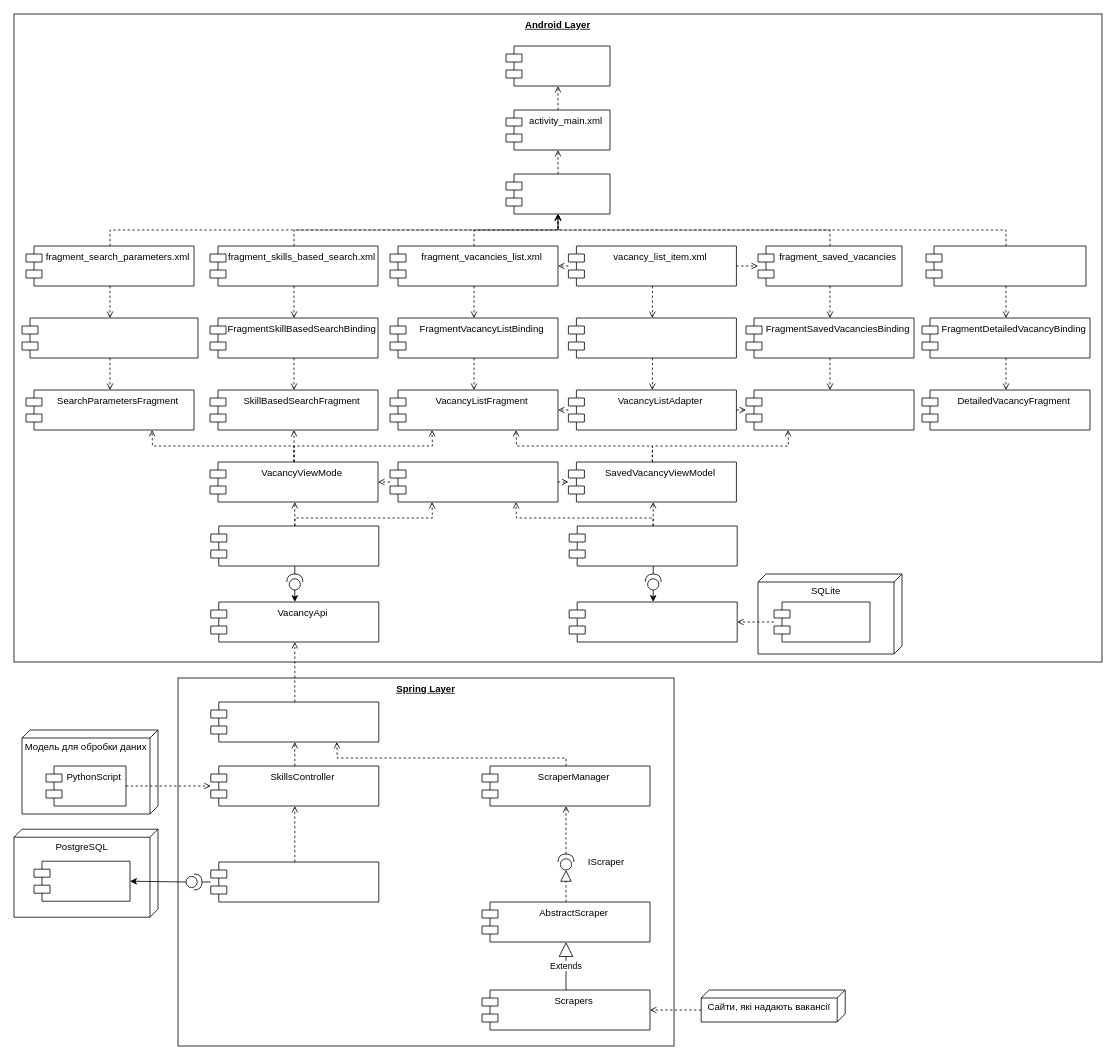
Image size: 1116x1060. Some labels were removed from this diagram. The shapes that lost their labels are listed below. From the top down, each one's centre as x and y in pixels, then its label:
At (557,65): "MainActivity".
At (557,193): "nav_graph.xml".
At (1005,265): "fragment_detailed_vacancy.xml".
At (109,337): "FragmentSearchParametersBinding".
At (652,337): "VacancyListItemBinding".
At (829,409): "SavedVacanciesFragment".
At (473,481): "Vacancy".
At (294,545): "VacanciesApiService".
At (652,545): "VacancyDao".
At (652,621): "VacancyRoomDatabase".
At (821,621): "SQLite DB".
At (294,721): "VacancyController".
At (81,880): "PostgreSQL DB".
At (294,881): "VacancyRepository".
